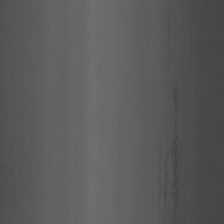inclusion: (154, 82, 186, 221)
